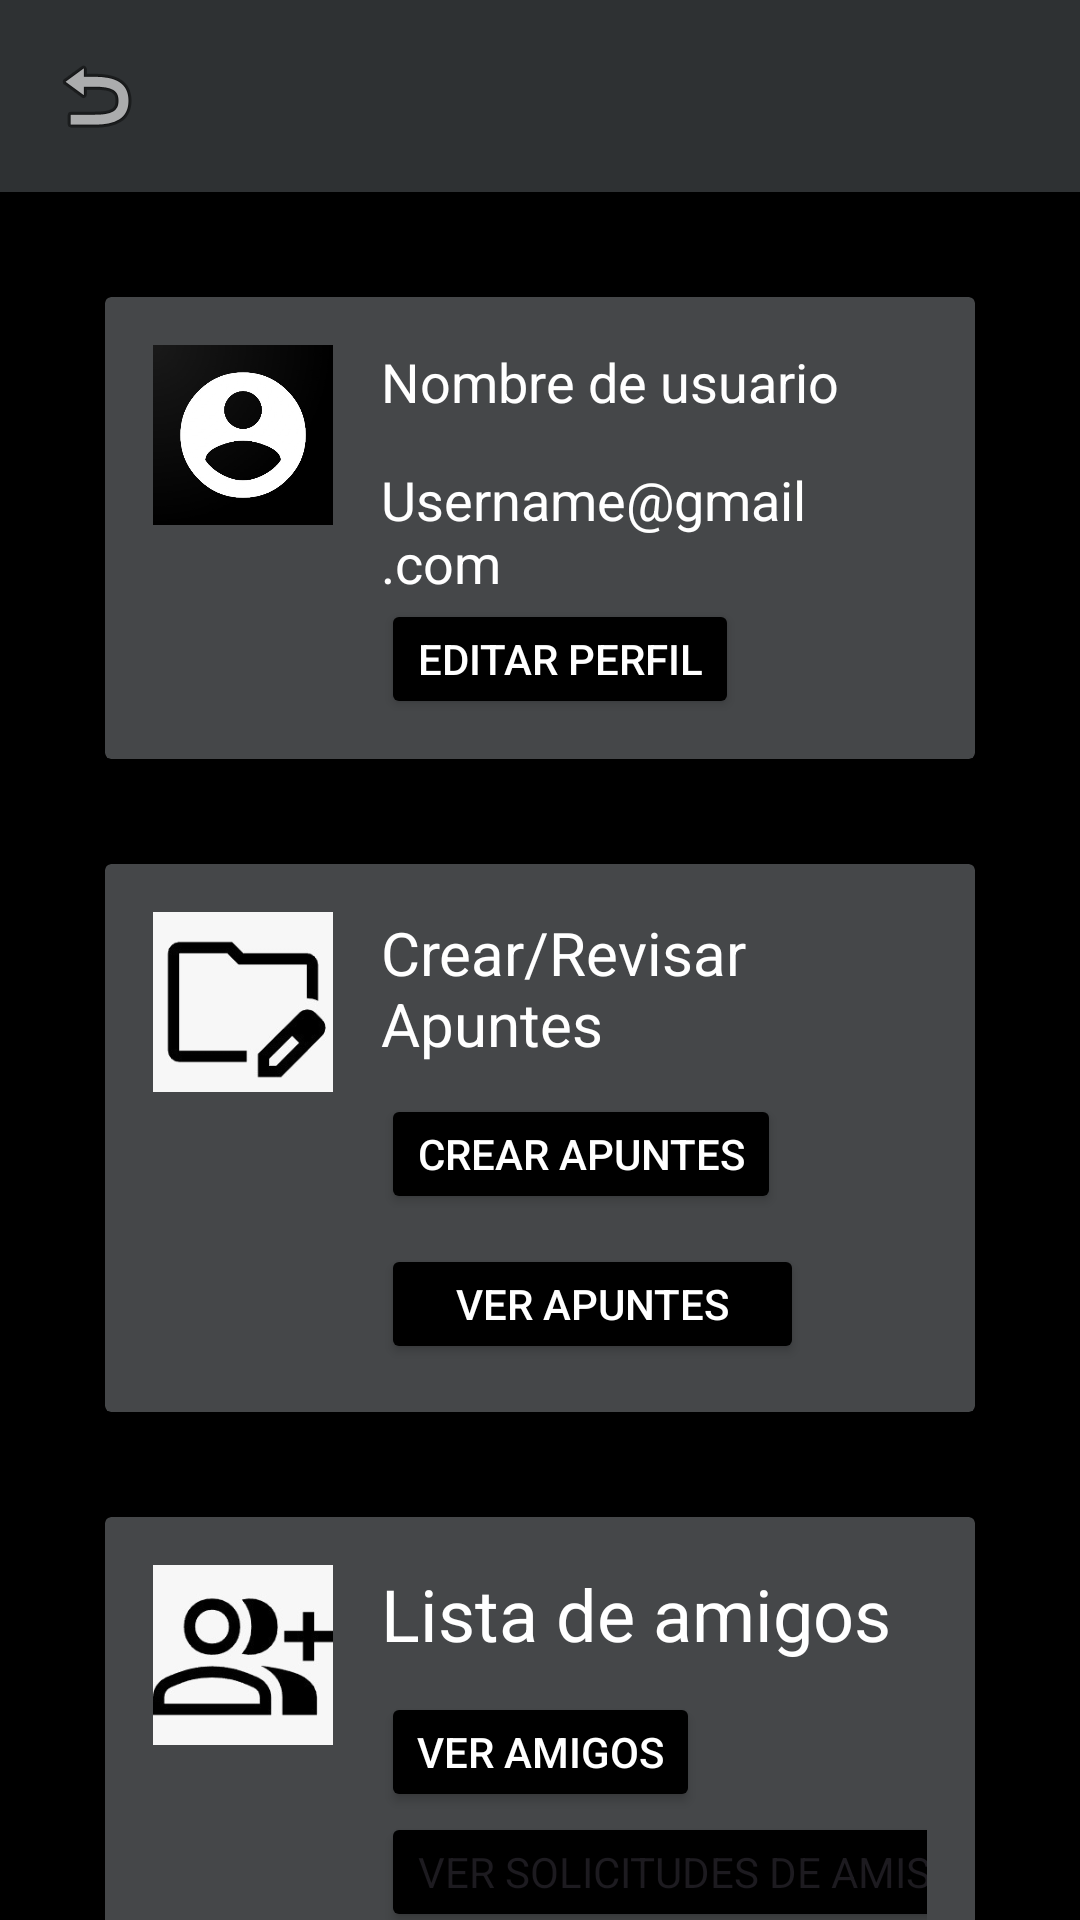

Where icons sit on this 1080x1920 app screen, as bbox=(x1, y1, x2, y2):
revert: bbox=(65, 68, 130, 126)
